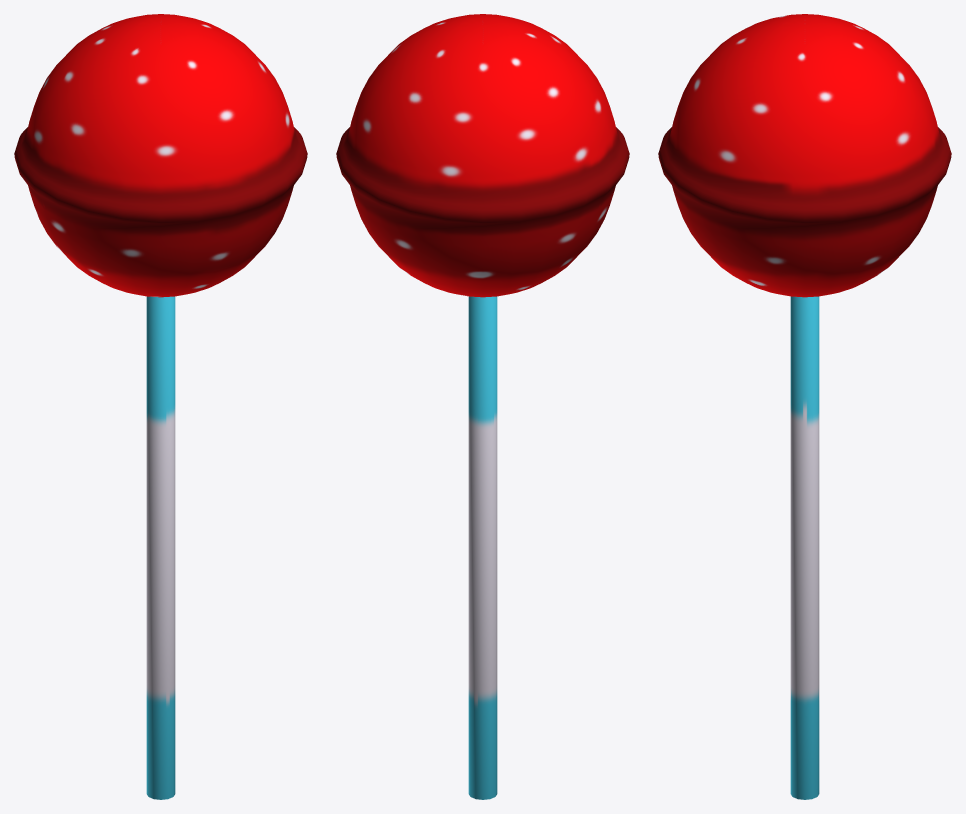
Rendered from Lolipop.obj.
3 renders of one model, left to right at view 1: azimuth 30°, elevation 25°; view 2: azimuth 150°, elevation 25°; view 3: azimuth 270°, elevation 25°, orthographic.
Parts seen in each view (by area): view 1: Sphere, Cylinder; view 2: Sphere, Cylinder; view 3: Sphere, Cylinder.
Boxes of the visible parts, box(x1,y1,x2,y2) form: Sphere: box(14, 14, 307, 297); Cylinder: box(146, 296, 175, 799); Sphere: box(336, 14, 629, 297); Cylinder: box(468, 296, 497, 799); Sphere: box(658, 14, 951, 297); Cylinder: box(790, 296, 819, 799).
Bounding box in the file's own units: 6.09 × 17.6 × 6.09.
Materials: 2 (2 with a texture image).
